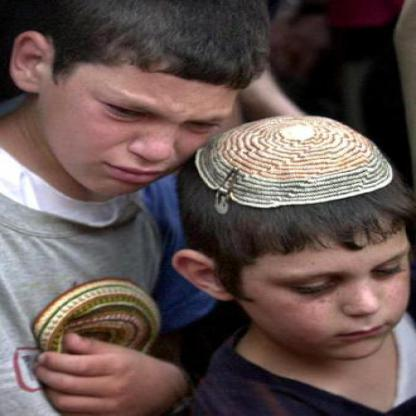face: (41, 1, 235, 201)
